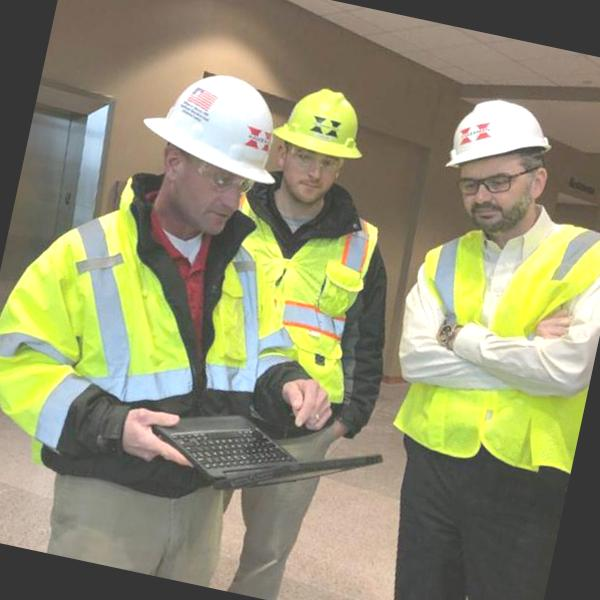helmet: (122, 52, 304, 180), (428, 88, 564, 202), (271, 76, 376, 172)
person: (5, 42, 323, 586), (168, 61, 445, 600), (329, 85, 600, 600)
